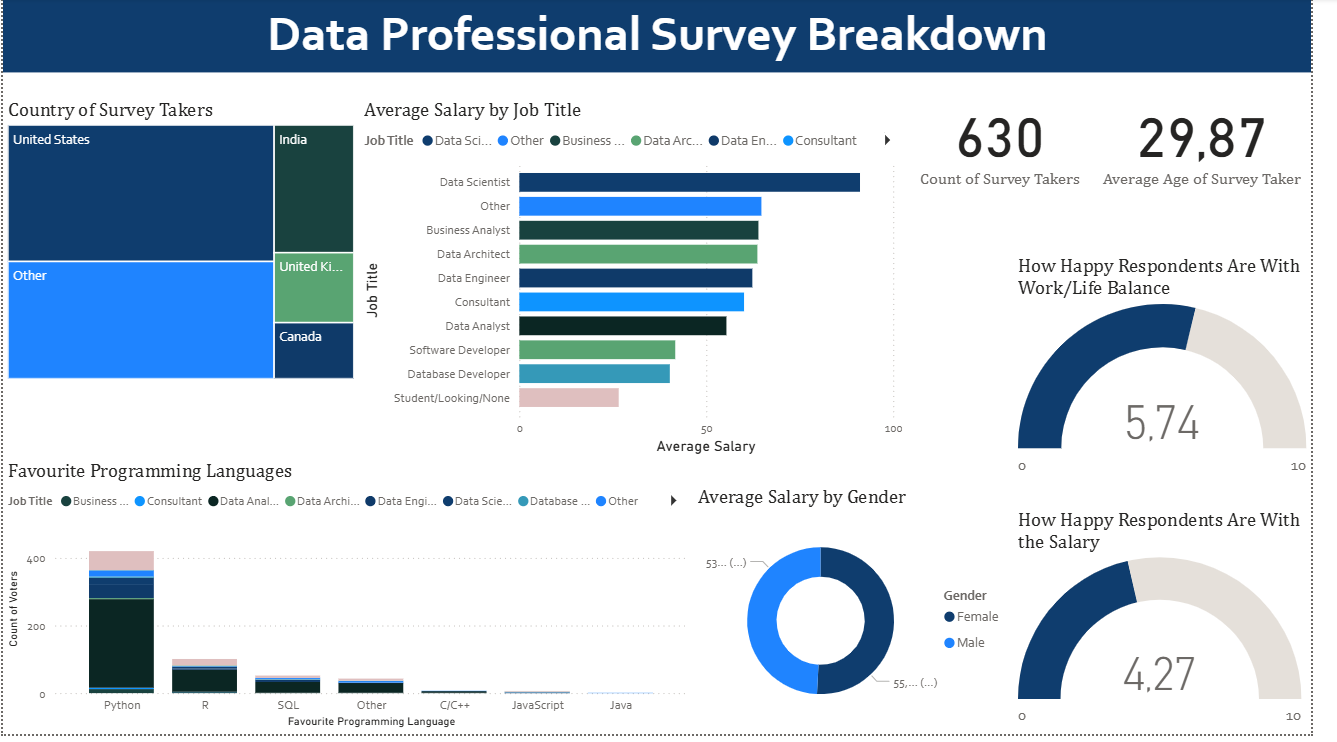

What the dashboard file says about the page in this screenshot:
{"tool":"powerbi","page":{"name":"Page 1","canvas":[1280,720],"ordinal":0},"visuals":[{"type":"textbox","box":[0,0,1280.3,72.6],"z":0},{"type":"card","fields":{"Values":["Count(Data Professional Survey.Unique ID)"]},"box":[885.3,85.6,179.8,107.6],"z":1000},{"type":"card","fields":{"Values":["Avg(Data Professional Survey.Q10 - Current Age)"]},"box":[1065.1,85.6,215.2,107.6],"z":2000},{"type":"barChart","title":"Average Salary by Job Title","fields":{"Category":["Data Professional Survey.Q1 - Which Title Best Fits your Current Role?"],"Y":["Avg(Data Professional Survey.Average Salary)"],"Series":["Data Professional Survey.Q1 - Which Title Best Fits your Current Role?"]},"box":[348.3,98.2,536.6,353.7],"z":3000},{"type":"columnChart","title":"Favourite Programming Languages","fields":{"Category":["Data Professional Survey.Q5 - Favorite Programming Language"],"Y":["CountNonNull(Data Professional Survey.Unique ID)"],"Series":["Data Professional Survey.Q1 - Which Title Best Fits your Current Role?"]},"box":[0,451.2,675,267.8],"z":4000},{"type":"treemap","title":"Country of Survey Takers","fields":{"Group":["Data Professional Survey.Q11 - Which Country do you live in?.1"],"Values":["CountNonNull(Data Professional Survey.Q11 - Which Country do you live in?.1)"]},"box":[0,98.2,348.3,279.7],"z":5000},{"type":"gauge","title":"How Happy Respondents Are With Work/Life Balance","fields":{"Y":["Avg(Data Professional Survey.Q6 - How Happy are you in your Current Position with the following? (Work/Life Bal"],"MinValue":["Min(Data Professional Survey.Q6 - How Happy are you in your Current Position with the following? (Work/Life Balance))"],"MaxValue":["Max(Data Professional Survey.Q6 - How Happy are you in your Current Position with the following? (Work/Life Balance))"]},"box":[988,250.7,292.3,225],"z":6000},{"type":"gauge","title":"How Happy Respondents Are With the Salary","fields":{"Y":["Avg(Data Professional Survey.Q6 - How Happy are you in your Current Position with the following? (Salary))"],"MinValue":["Min(Data Professional Survey.Q6 - How Happy are you in your Current Position with the following? (Salary))"],"MaxValue":["Max(Data Professional Survey.Q6 - How Happy are you in your Current Position with the following? (Salary))"]},"box":[988,498.9,287.4,221.3],"z":7000},{"type":"donutChart","title":"Average Salary by Gender","fields":{"Category":["Data Professional Survey.Q9 - Male/Female?"],"Y":["Avg(Data Professional Survey.Average Salary)"]},"box":[675,476.9,313,243.3],"z":8000}]}

Visuals, with their boxes in screenshot pixels (x1, y1, x2, y2), scaled from the page's 1280x720 canvas onto the 1337x742 screenshot:
textbox: {"left": 0, "top": 0, "right": 1336, "bottom": 75}
card - Count(Data Professional Survey.Unique ID): {"left": 925, "top": 88, "right": 1113, "bottom": 199}
card - Avg(Data Professional Survey.Q10 - Current Age): {"left": 1113, "top": 88, "right": 1336, "bottom": 199}
"Average Salary by Job Title" barChart: {"left": 364, "top": 101, "right": 924, "bottom": 466}
"Favourite Programming Languages" columnChart: {"left": 0, "top": 465, "right": 705, "bottom": 741}
"Country of Survey Takers" treemap: {"left": 0, "top": 101, "right": 364, "bottom": 389}
"How Happy Respondents Are With Work/Life Balance" gauge: {"left": 1032, "top": 258, "right": 1336, "bottom": 490}
"How Happy Respondents Are With the Salary" gauge: {"left": 1032, "top": 514, "right": 1332, "bottom": 741}
"Average Salary by Gender" donutChart: {"left": 705, "top": 491, "right": 1032, "bottom": 741}
